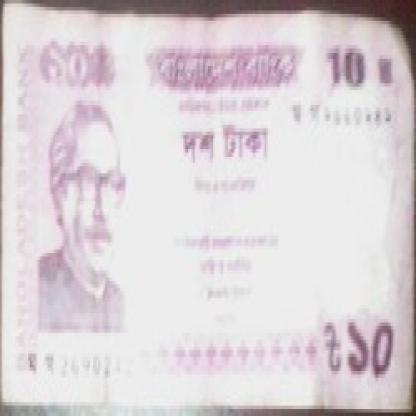Ten Taka: (348, 305, 411, 385), (27, 35, 103, 97), (326, 35, 388, 111)
